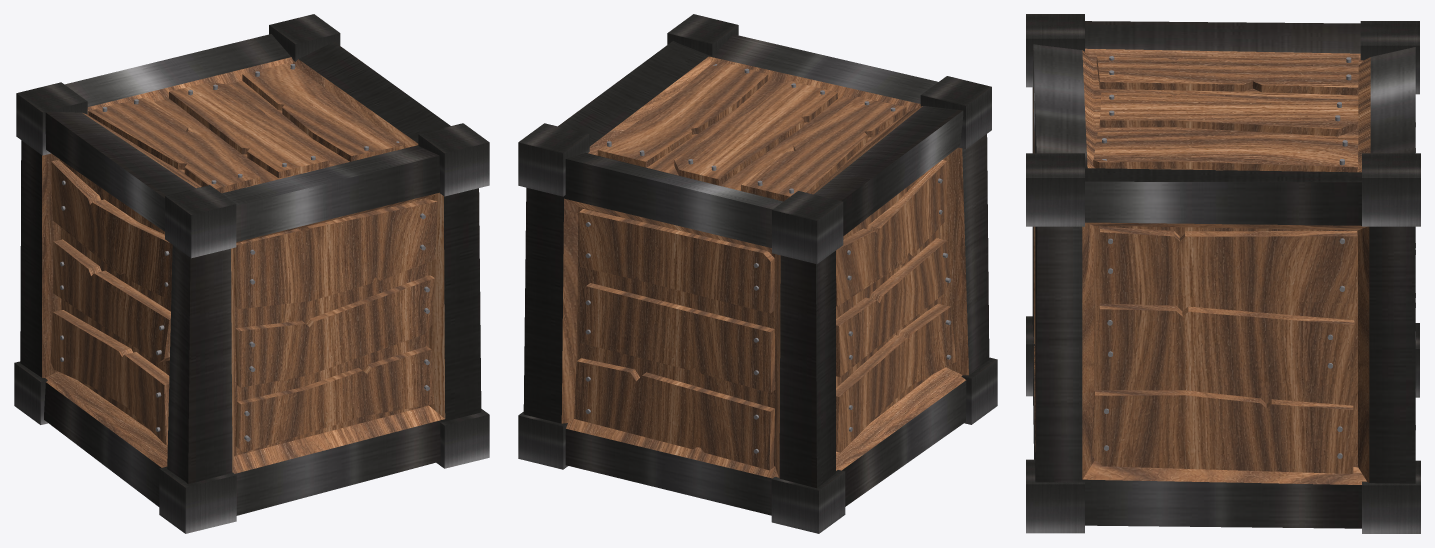
File: CajaNoMovil.glb
3 views of the same model, side by side, from view 1: azimuth 30°, elevation 25°; view 2: azimuth 150°, elevation 25°; view 3: azimuth 270°, elevation 25° (orthographic). The views are drawn at different scales.
Visible parts, largest first — view 1: Cubo, Cubo.003, Cubo.008, Cubo.004, Cubo.002, Cubo.007, Cubo.005, Cubo.009; view 2: Cubo, Cubo.002, Cubo.005, Cubo.009, Cubo.003, Cubo.006, Cubo.004, Cubo.008; view 3: Cubo, Cubo.004, Cubo.005, Cubo.007, Cubo.006, Cubo.003, Cubo.002, Cubo.008.
Boxes of the visible parts, x1,y1,x2,y2 form: Cubo: (20, 34, 481, 515); Cubo.003: (165, 185, 236, 258); Cubo.008: (159, 466, 236, 533); Cubo.004: (418, 123, 489, 196); Cubo.002: (16, 82, 87, 155); Cubo.007: (436, 409, 489, 468); Cubo.005: (269, 14, 340, 61); Cubo.009: (14, 361, 47, 424); Cubo: (523, 34, 989, 515); Cubo.002: (772, 191, 843, 263); Cubo.005: (518, 123, 589, 196); Cubo.009: (771, 470, 845, 533); Cubo.003: (920, 76, 991, 149); Cubo.006: (518, 412, 567, 469); Cubo.004: (667, 14, 738, 55); Cubo.008: (961, 357, 997, 424); Cubo: (1032, 21, 1415, 528); Cubo.004: (1026, 153, 1084, 226); Cubo.005: (1362, 153, 1420, 226); Cubo.007: (1026, 459, 1084, 533); Cubo.006: (1362, 460, 1420, 533); Cubo.003: (1026, 14, 1084, 87); Cubo.002: (1360, 21, 1419, 94); Cubo.008: (1026, 316, 1034, 396).
Size of the model in its own units: 2.1 by 2.11 by 2.1.
Materials: 82 (10 with a texture image).
